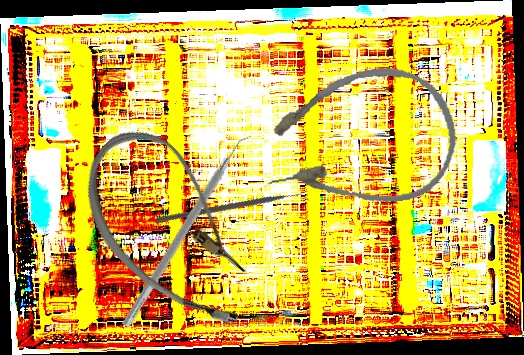Cannula: (54, 111, 294, 348), (253, 59, 465, 219)
Chopper: (154, 133, 312, 289)
Spatula Surgical: (121, 128, 256, 334)
